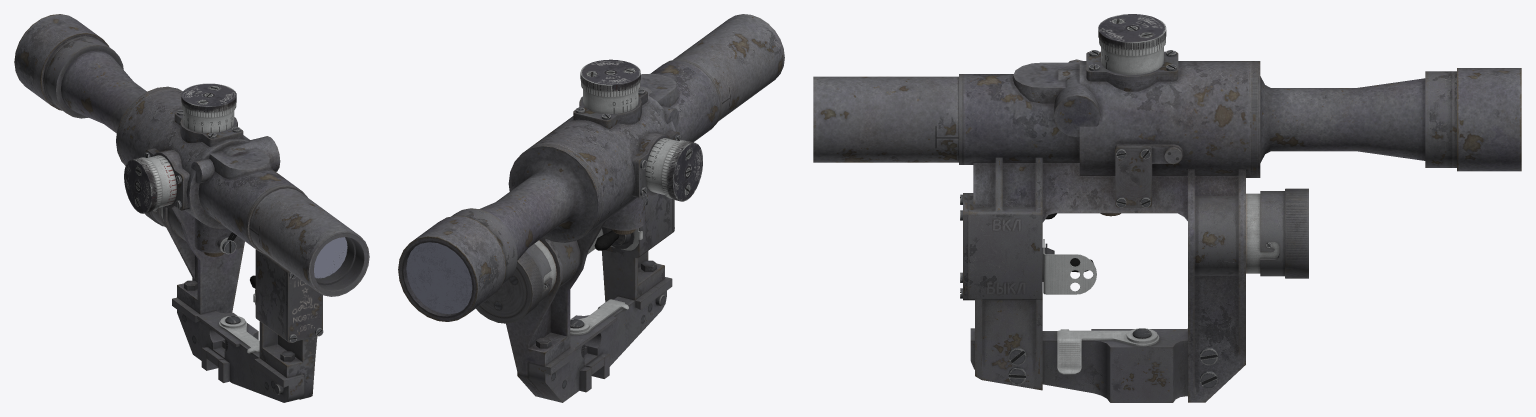
The model's file is pso-1-1_sniper_scope.glb.
3 views of the same model, side by side, from view 1: azimuth 30°, elevation 25°; view 2: azimuth 150°, elevation 25°; view 3: azimuth 270°, elevation 25° (orthographic). The views are drawn at different scales.
Parts seen in each view (by area): view 1: Circle.014; view 2: Circle.014; view 3: Circle.014.
Boxes of the visible parts, x1=… form: Circle.014: x1=14, y1=14, x2=369, y2=402; Circle.014: x1=398, y1=14, x2=784, y2=402; Circle.014: x1=813, y1=14, x2=1521, y2=402.
Bounding box in the file's own units: 0.098 × 0.1989 × 0.3634.
3 materials, 3 textured.
